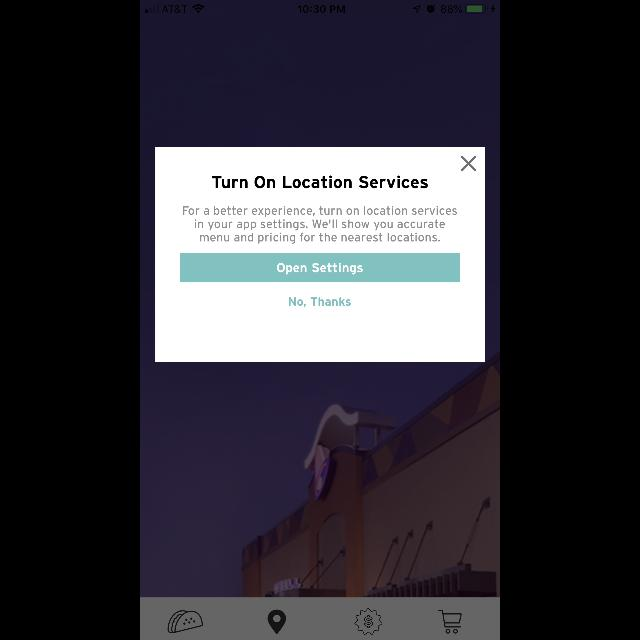icon: (462, 156, 476, 172)
panel: (156, 148, 484, 362)
text: (183, 206, 457, 244), (212, 176, 428, 188), (289, 296, 351, 308)
textbutton: (180, 254, 460, 282)
uppertaskbar: (140, 0, 500, 14)
